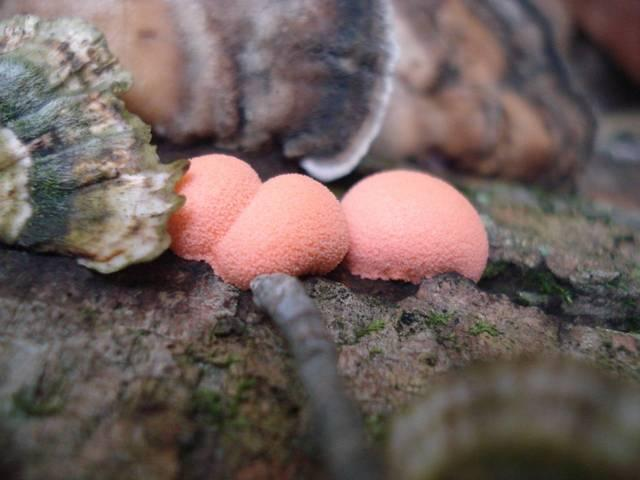Non-edible Mushroom: (1, 0, 398, 181), (0, 12, 190, 275), (338, 167, 490, 286), (209, 171, 350, 290), (166, 151, 262, 263)
